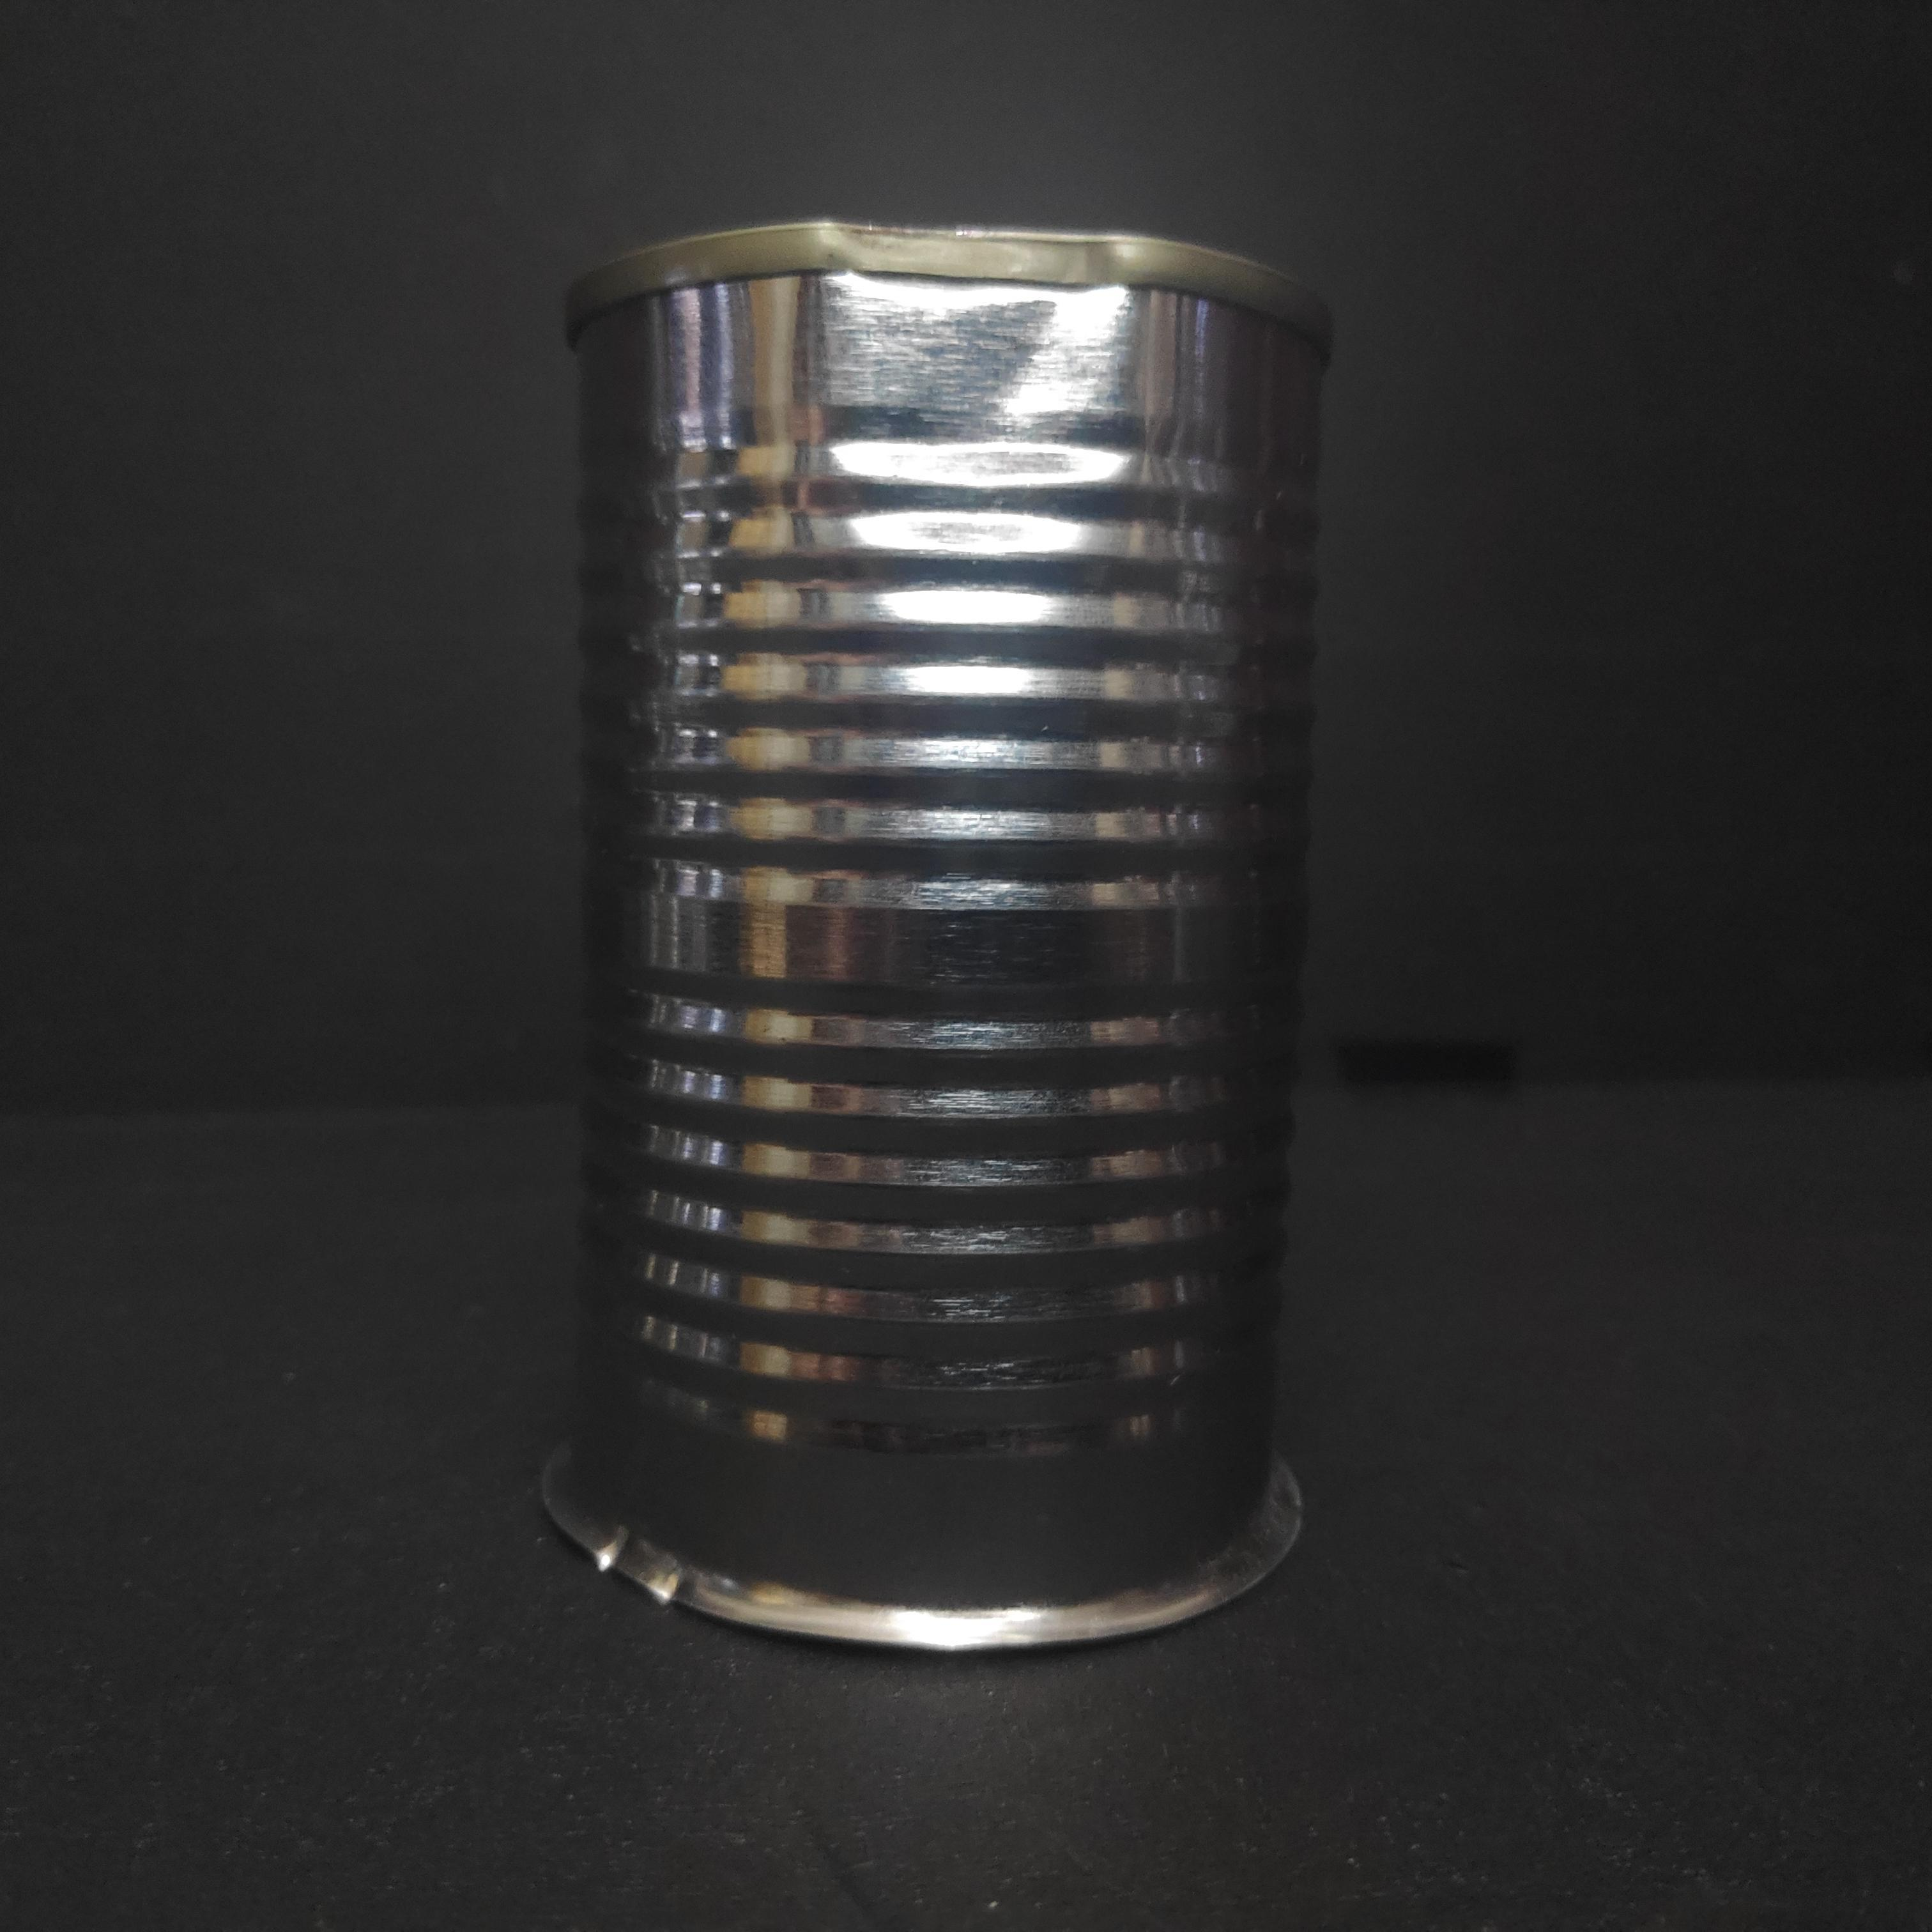Dented: (543, 182, 1357, 1665)
